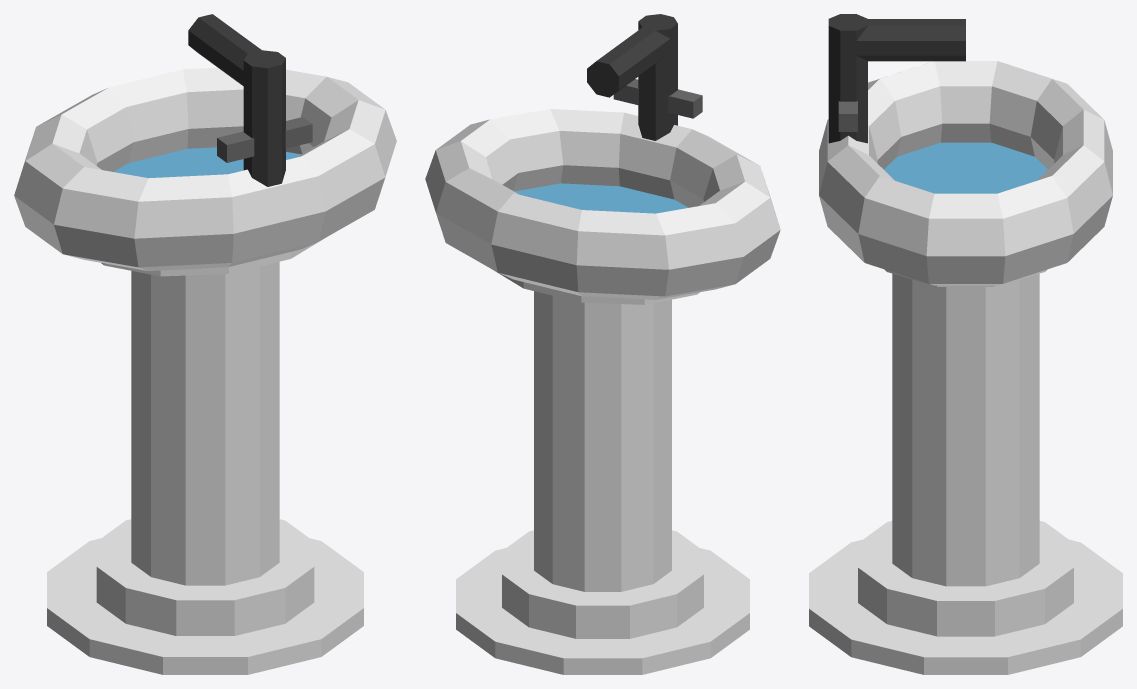
3 views of the same model, side by side, from view 1: azimuth 30°, elevation 25°; view 2: azimuth 150°, elevation 25°; view 3: azimuth 270°, elevation 25° (orthographic). The views are drawn at different scales.
Visible parts, largest first — view 1: torus, cylinder, cylinder_2, cylinder_1, cylinder_4, cylinder_3, cylinder_5, cube; view 2: torus, cylinder, cylinder_2, cylinder_1, cylinder_3, cylinder_4, cylinder_5, cube; view 3: torus, cylinder, cylinder_2, cylinder_1, cylinder_3, cylinder_5, cylinder_4, cube.
Part boxes in pixels (<box>): torus: <box>14,67,396,270</box>; cylinder: <box>131,261,279,585</box>; cylinder_2: <box>47,538,363,674</box>; cylinder_1: <box>96,519,314,635</box>; cylinder_4: <box>243,50,285,186</box>; cylinder_3: <box>101,147,322,276</box>; cylinder_5: <box>188,14,269,85</box>; cube: <box>217,117,312,162</box>; torus: <box>425,109,780,299</box>; cylinder: <box>534,291,671,591</box>; cylinder_2: <box>456,548,749,674</box>; cylinder_1: <box>502,530,703,638</box>; cylinder_3: <box>495,183,699,304</box>; cylinder_4: <box>638,14,677,140</box>; cylinder_5: <box>587,22,673,97</box>; cube: <box>613,79,702,118</box>; torus: <box>819,61,1112,285</box>; cylinder: <box>892,273,1039,586</box>; cylinder_2: <box>809,539,1122,674</box>; cylinder_1: <box>858,521,1073,636</box>; cylinder_3: <box>884,142,1047,286</box>; cylinder_5: <box>848,19,965,61</box>; cylinder_4: <box>828,14,867,143</box>; cube: <box>838,101,857,131</box>.
Size of the model in its own units: 25 by 41.25 by 20.
1 material, 1 textured.
